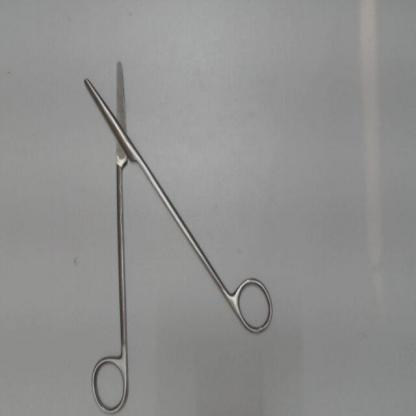9 Metzenbaum Scissors: (80, 53, 278, 415)
